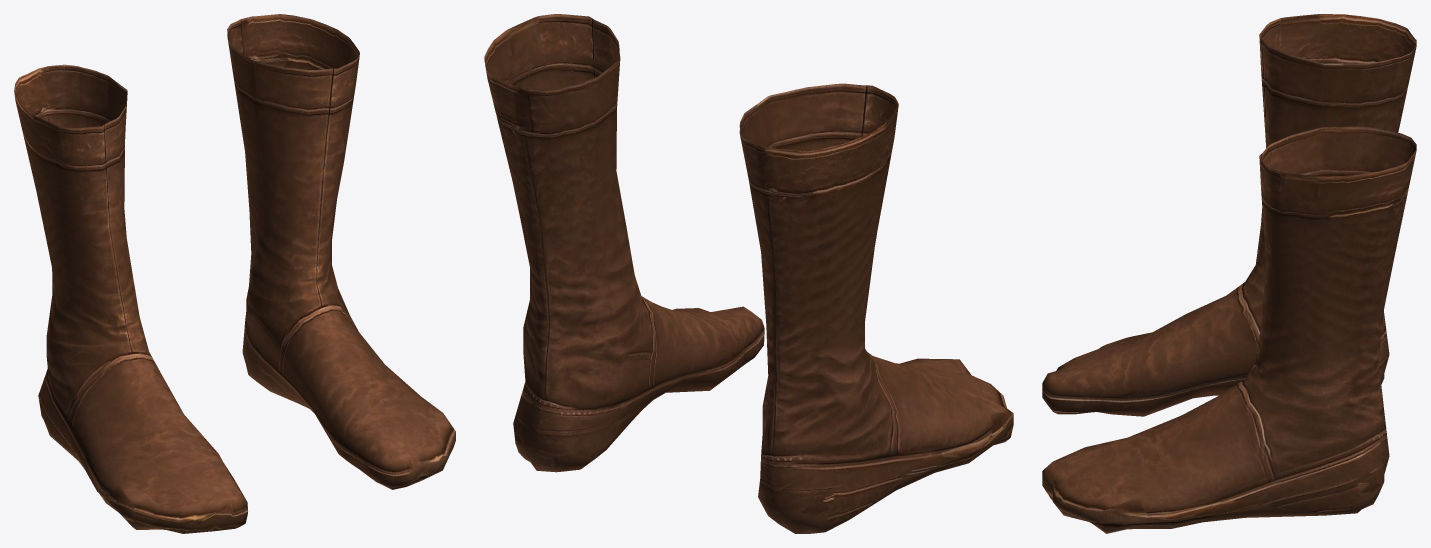
File: LeatherRangedBoots.glb
3 views of the same model, side by side, from view 1: azimuth 30°, elevation 25°; view 2: azimuth 150°, elevation 25°; view 3: azimuth 270°, elevation 25° (orthographic). The views are drawn at different scales.
Parts seen in each view (by area): view 1: Mesh_0; view 2: Mesh_0; view 3: Mesh_0.
Part boxes in pixels (left/top/right/bottom): Mesh_0: left=14, top=14, right=455, bottom=533; Mesh_0: left=484, top=14, right=1013, bottom=533; Mesh_0: left=1042, top=14, right=1416, bottom=533.
Bounding box in the file's own units: 2 × 2 × 1.87.
Materials: 1 (1 with a texture image).
